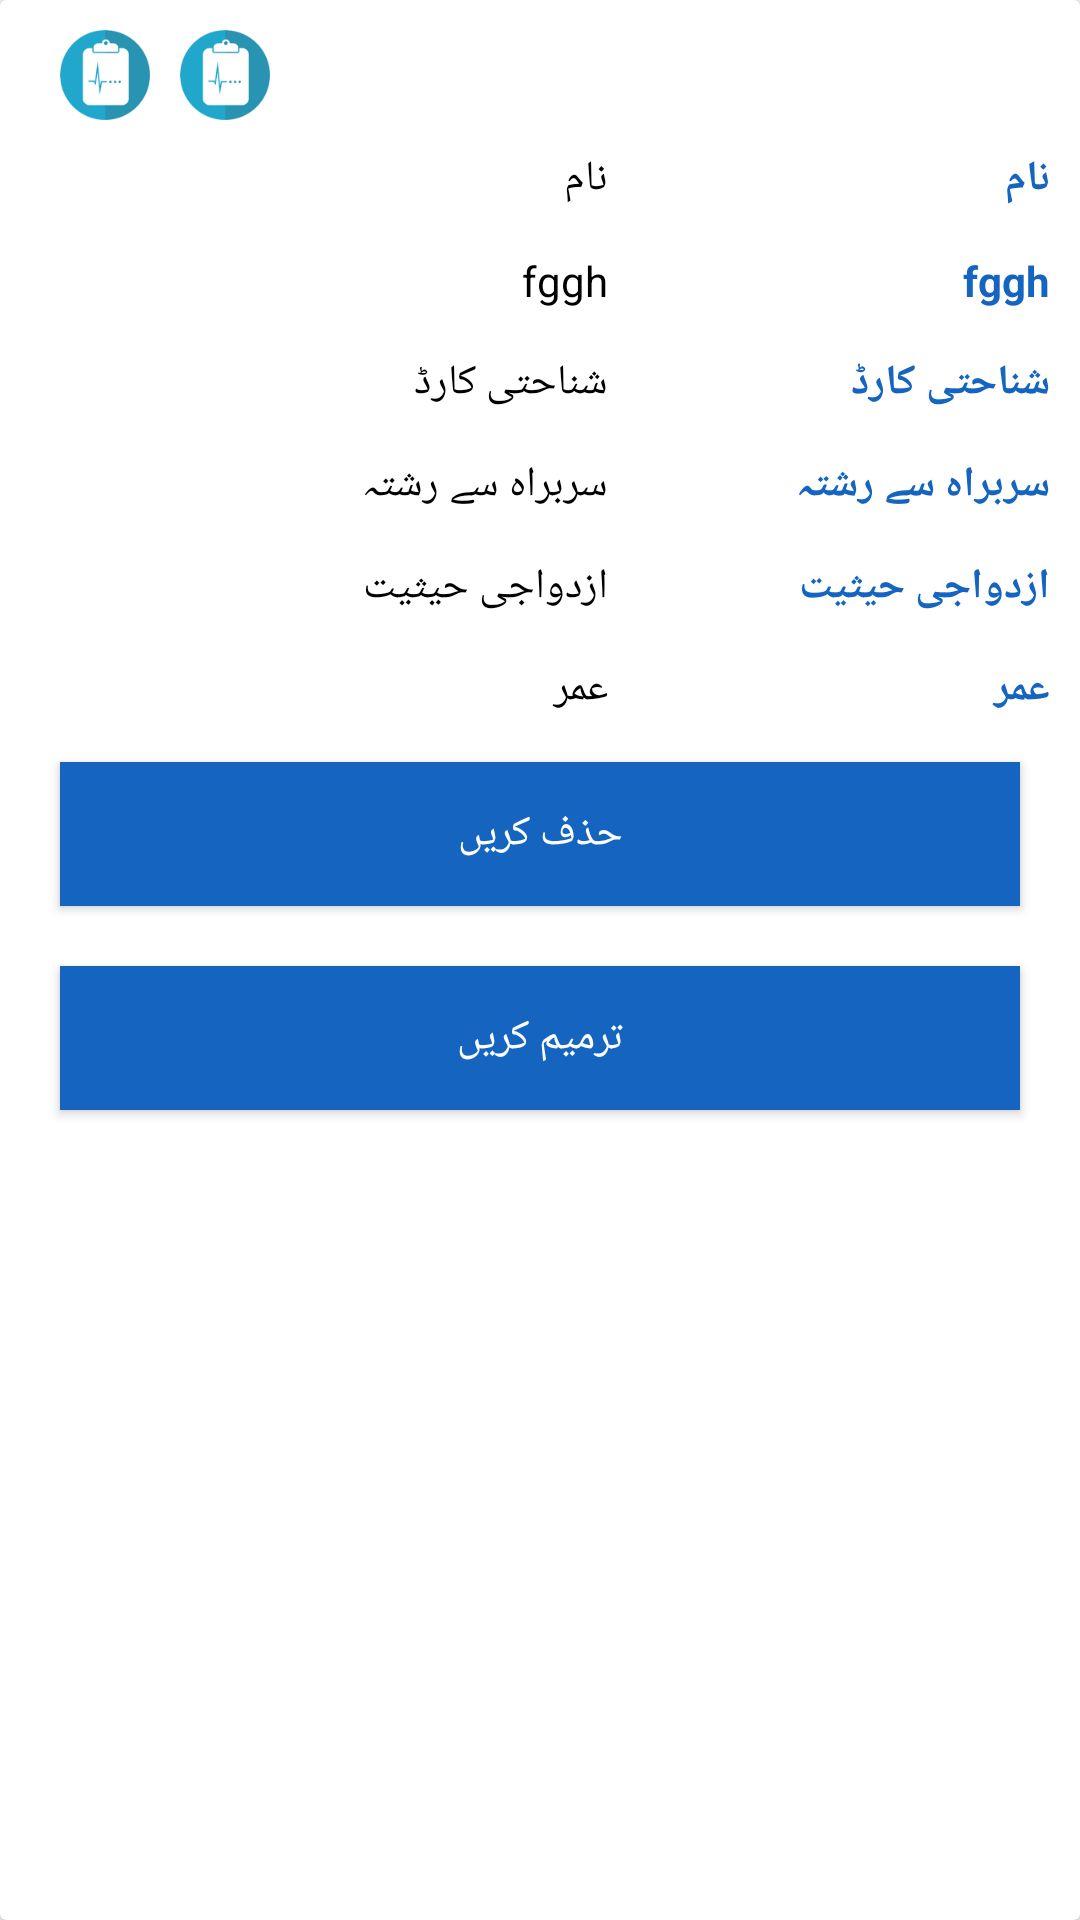

Locate icon controls on the screen. Image size 1080px×1920px, boxes as (x1,y1,x2,y2).
medicalprofile: (60,30,150,120), (180,30,270,120)
